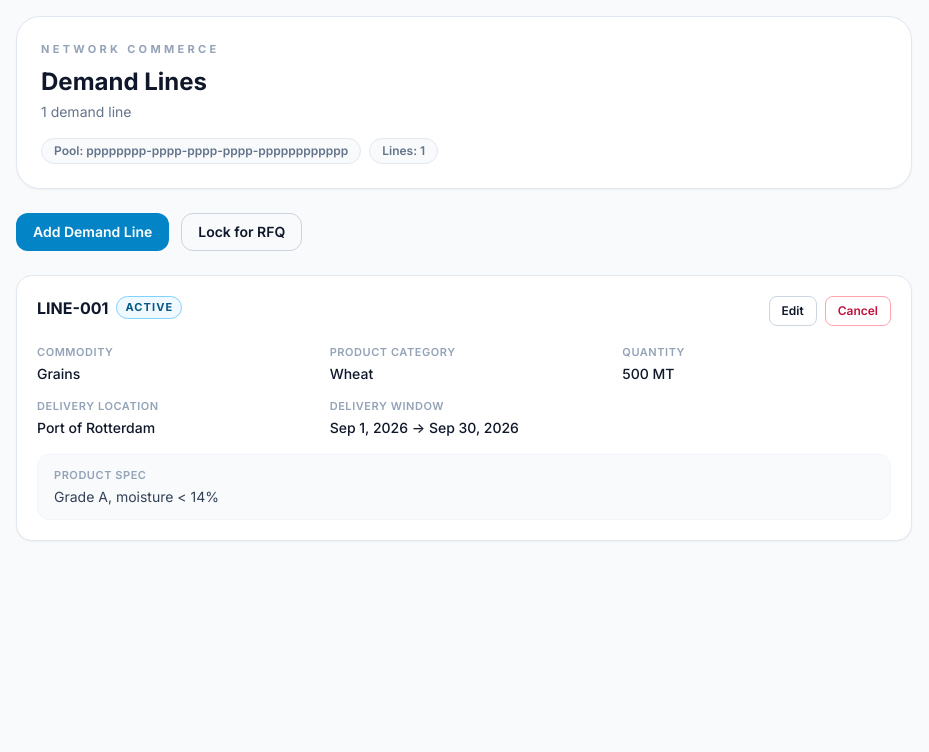
Test case: DemandLineSurface — create form › opens create form when Add Demand Line is clicked
Click the button "Add Demand Line" at (93, 232), box [16, 212, 169, 250]
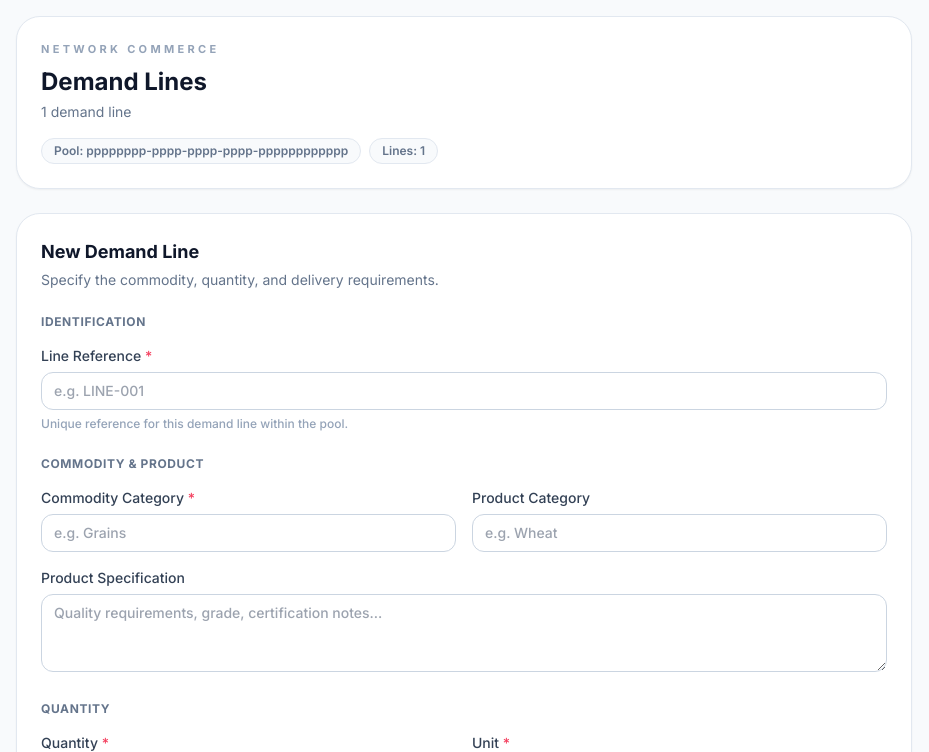
Now the heading "New Demand Line" is shown, box [41, 240, 199, 262]
